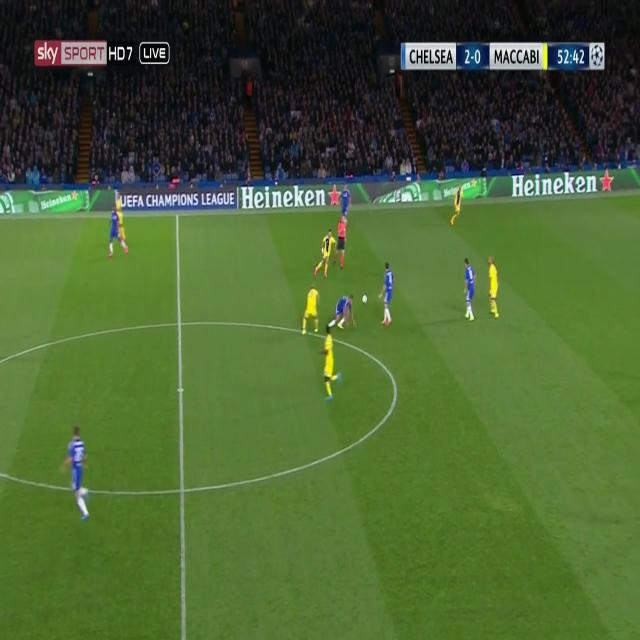Ball: (361, 293, 369, 307)
Player: (57, 422, 95, 522), (320, 322, 342, 402), (323, 293, 358, 339), (299, 283, 324, 343), (379, 258, 396, 330), (485, 252, 502, 322), (461, 258, 478, 326), (312, 228, 334, 280), (108, 210, 128, 265), (447, 184, 465, 231)
Referee: (332, 213, 348, 273)
